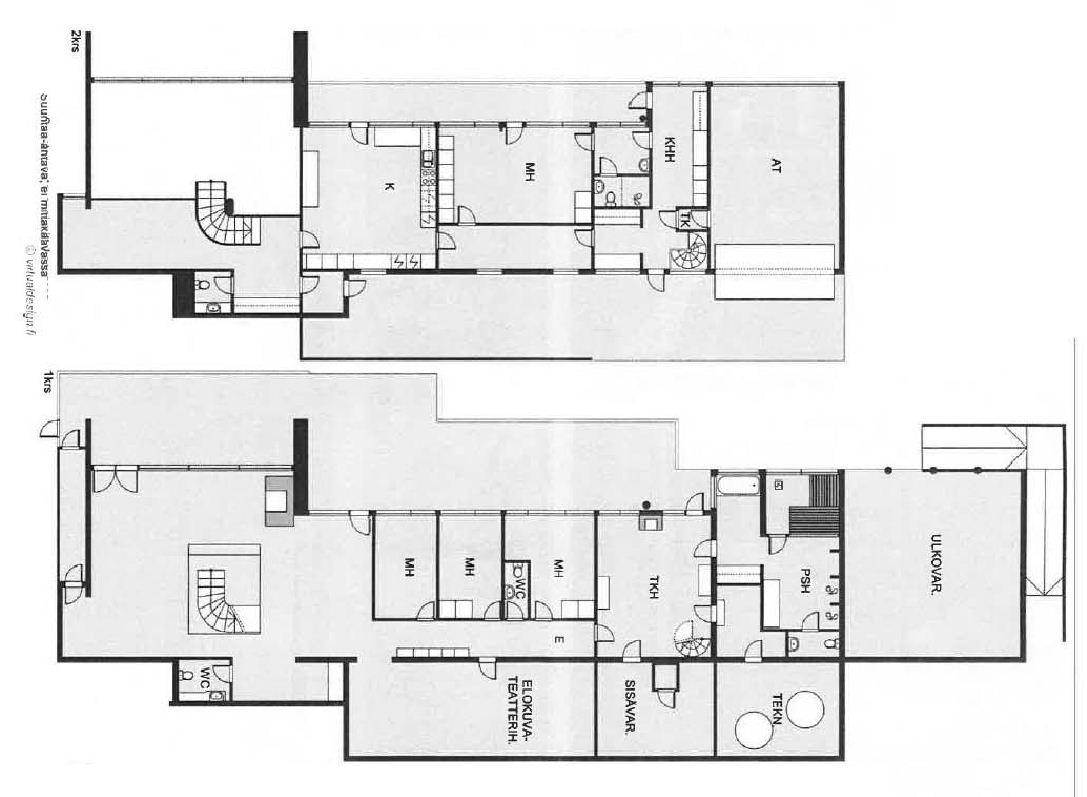door: (112, 461, 143, 496), (739, 639, 770, 668), (644, 261, 668, 297), (90, 462, 117, 493), (591, 617, 618, 647), (61, 579, 87, 610), (210, 272, 241, 298), (683, 487, 708, 519), (692, 599, 721, 626), (476, 654, 501, 684), (572, 224, 599, 251), (618, 636, 643, 665), (62, 561, 86, 591), (624, 89, 653, 113), (350, 116, 371, 149), (694, 537, 720, 563), (295, 228, 323, 252), (800, 607, 823, 636), (766, 532, 791, 558), (37, 416, 64, 440), (573, 129, 597, 155), (297, 270, 320, 297), (655, 686, 677, 714), (479, 596, 503, 621), (530, 595, 554, 620), (655, 207, 680, 231), (59, 430, 85, 453), (208, 662, 234, 685), (630, 129, 657, 151), (504, 120, 526, 147), (456, 203, 479, 228), (436, 228, 458, 254), (415, 599, 438, 623), (505, 600, 525, 625), (342, 279, 367, 299), (597, 154, 618, 177), (689, 208, 713, 226)
window: (708, 81, 845, 89), (236, 460, 294, 476), (433, 114, 477, 134), (303, 114, 351, 131), (592, 267, 646, 282), (185, 460, 241, 474), (794, 463, 846, 478), (368, 116, 417, 131), (519, 116, 563, 132), (561, 114, 596, 132), (137, 463, 192, 474), (304, 508, 354, 520), (187, 75, 245, 85), (240, 75, 297, 85), (140, 74, 195, 84), (92, 74, 146, 84), (369, 507, 413, 519), (471, 116, 504, 132), (665, 266, 712, 277), (407, 504, 439, 520), (435, 507, 477, 519), (473, 265, 508, 279), (411, 115, 439, 132), (759, 467, 805, 477), (546, 266, 587, 277), (710, 470, 766, 478), (590, 118, 622, 132), (528, 508, 568, 519), (675, 79, 711, 91), (644, 80, 682, 91), (355, 265, 392, 276), (59, 190, 90, 203), (560, 509, 599, 519), (471, 507, 505, 518), (592, 508, 622, 519), (617, 118, 650, 128), (711, 472, 720, 508), (617, 507, 642, 518), (658, 509, 688, 518), (504, 509, 532, 515)
